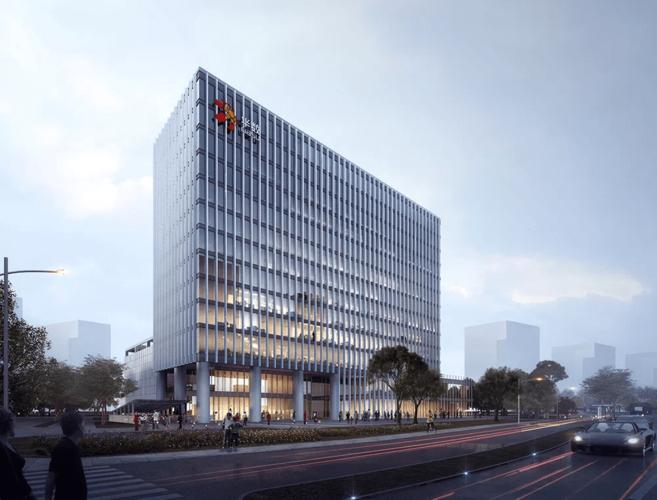buildings: (114, 60, 466, 407)
